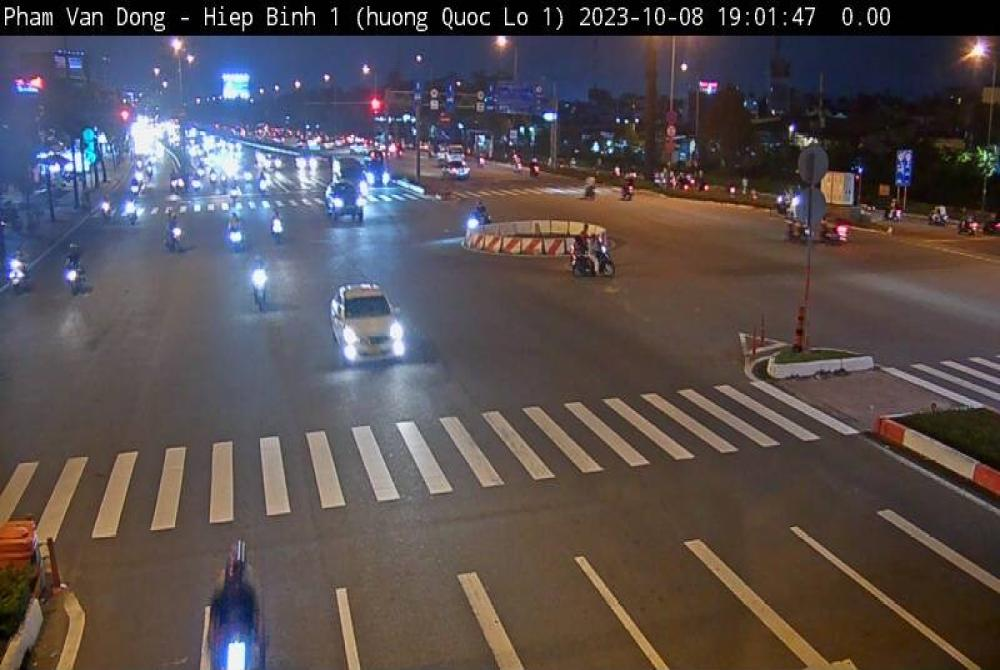car: (320, 276, 414, 381), (317, 177, 373, 225)
